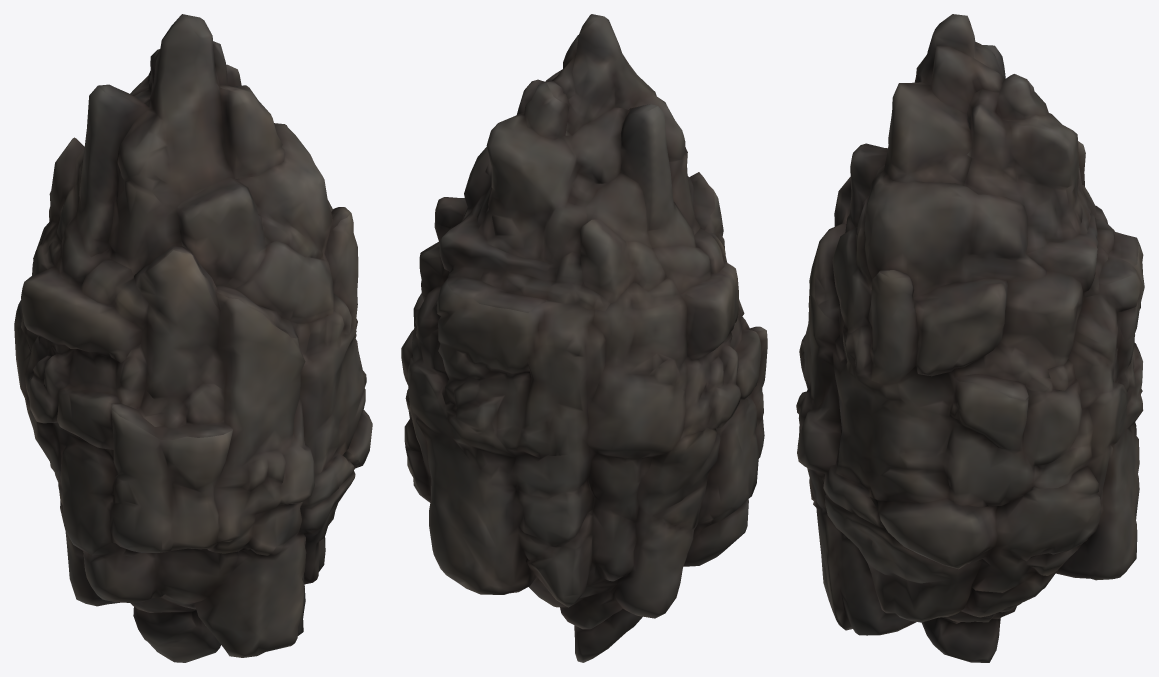
The model's file is Rock_05_a.fbx.
3 renders of one model, left to right at view 1: azimuth 30°, elevation 25°; view 2: azimuth 150°, elevation 25°; view 3: azimuth 270°, elevation 25°, orthographic. The views are drawn at different scales.
Parts seen in each view (by area): view 1: Rock_05; view 2: Rock_05; view 3: Rock_05.
Boxes of the visible parts, x1,y1,x2,y2 form: Rock_05: (14, 14, 372, 662); Rock_05: (401, 14, 767, 662); Rock_05: (796, 14, 1144, 662).
Size of what is drawn, in the model's own units: 574 by 1142 by 558.
